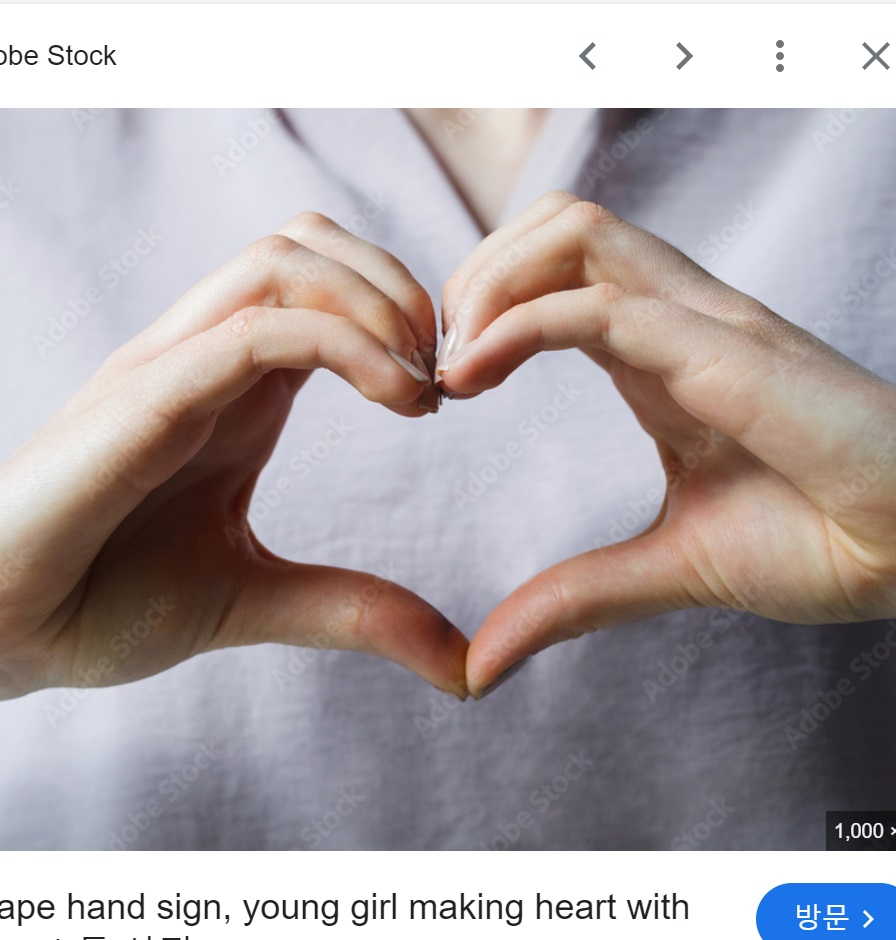heart: (28, 192, 887, 705)
